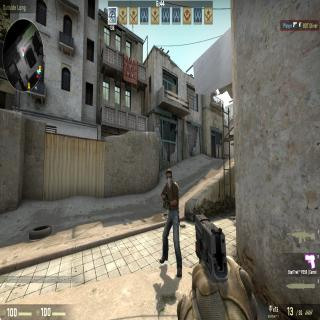T-Body: (160, 168, 182, 277)
T-Head: (165, 167, 172, 186)
